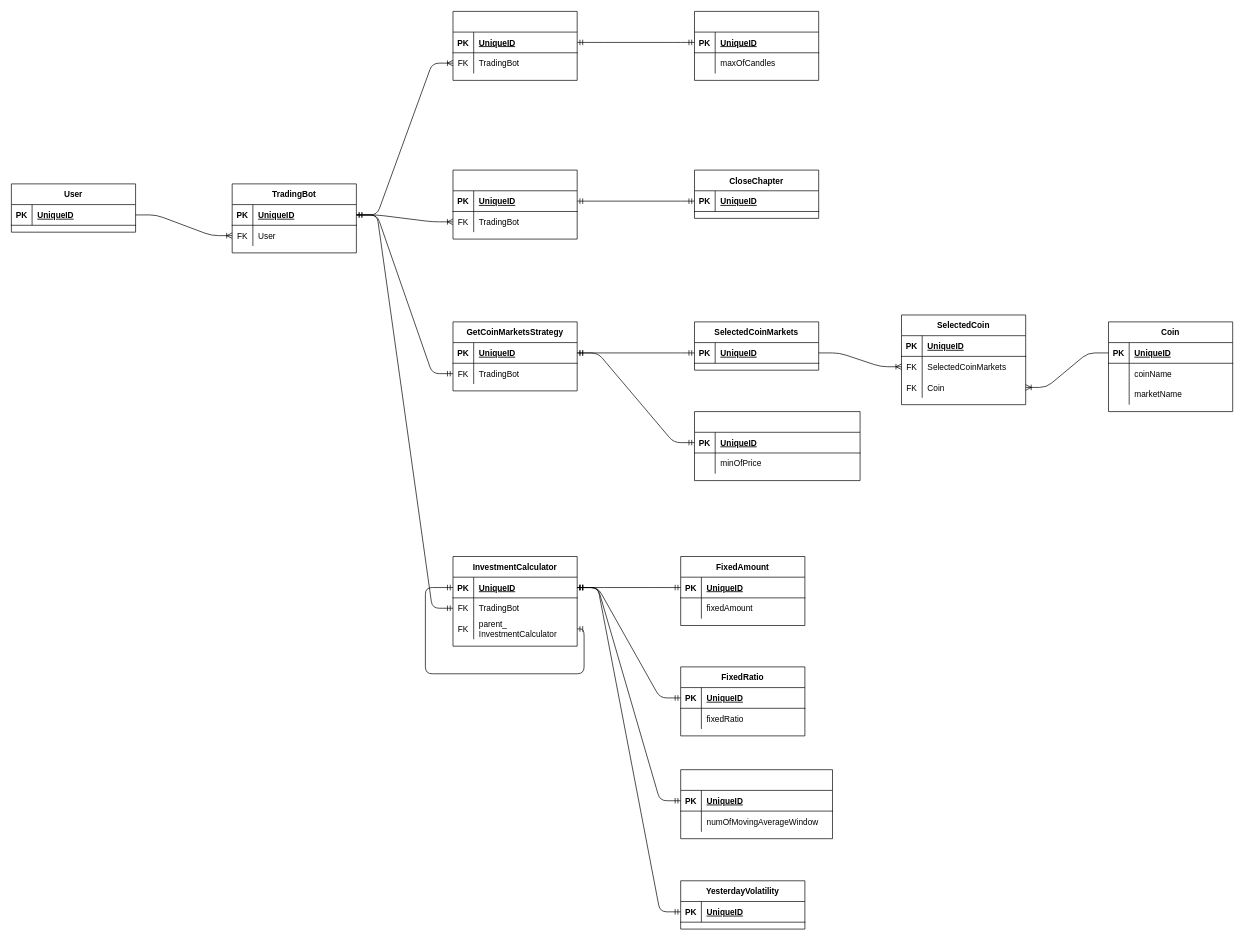
Some shapes in this 1244 by 940 pixel diagram are drawn without their labels. Each missing label, with the box of its shape:
GetTopChangeRateCoinMarkets: (694, 411, 860, 481)
PurchaseStrategy: (452, 11, 577, 80)
ScoreOfMovingAverage: (680, 769, 832, 839)
SellStrategy: (452, 169, 577, 239)
VolatilityBreakout: (694, 11, 819, 80)
